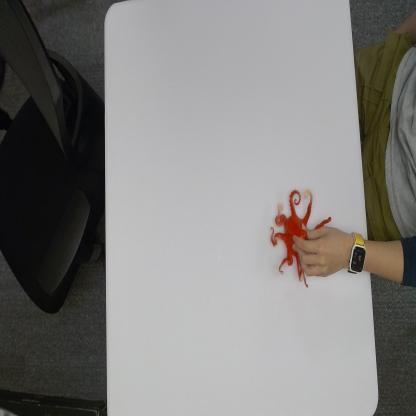Hand: (291, 222, 349, 281)
Octopus: (269, 186, 332, 292)
